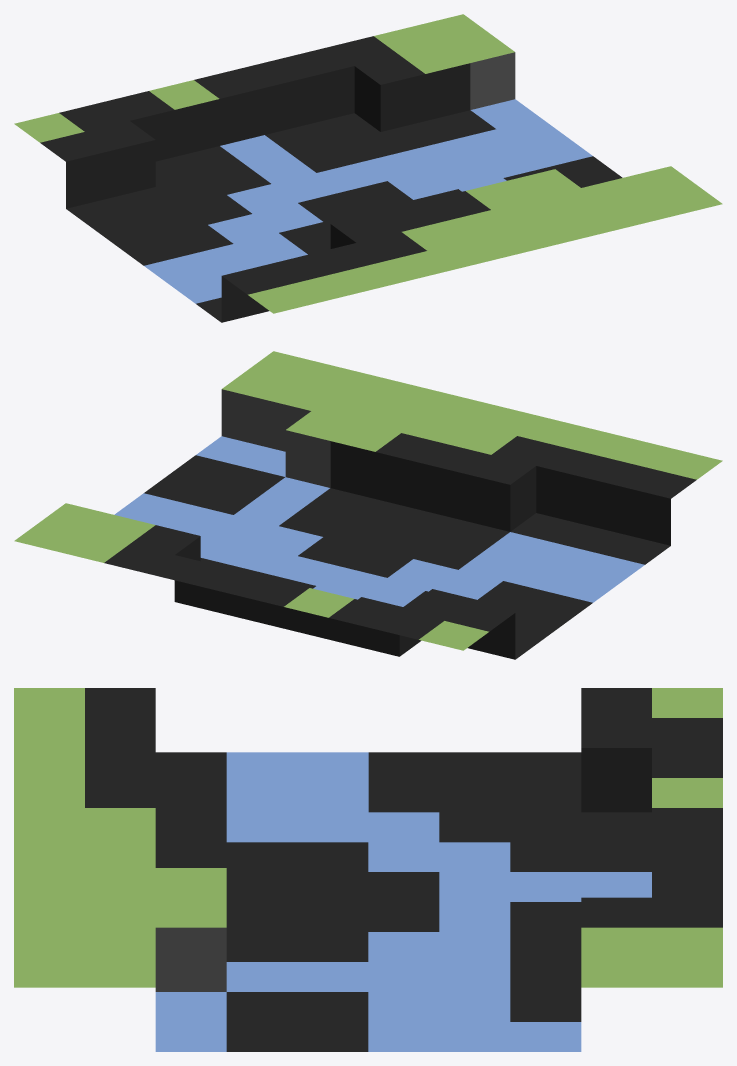
The model's file is terrain_river_polluted_1.fbx.
3 views of the same model, one above another, from view 1: azimuth 30°, elevation 25°; view 2: azimuth 150°, elevation 25°; view 3: azimuth 270°, elevation 25° (orthographic). The views are drawn at different scales.
Visible parts, largest first — view 1: Grid.077; view 2: Grid.077; view 3: Grid.077.
Part boxes in pixels (<box>): Grid.077: <box>14,14,722,322</box>; Grid.077: <box>14,351,722,659</box>; Grid.077: <box>14,688,722,1051</box>.
Size of the model in its own units: 200 by 20 by 200.
